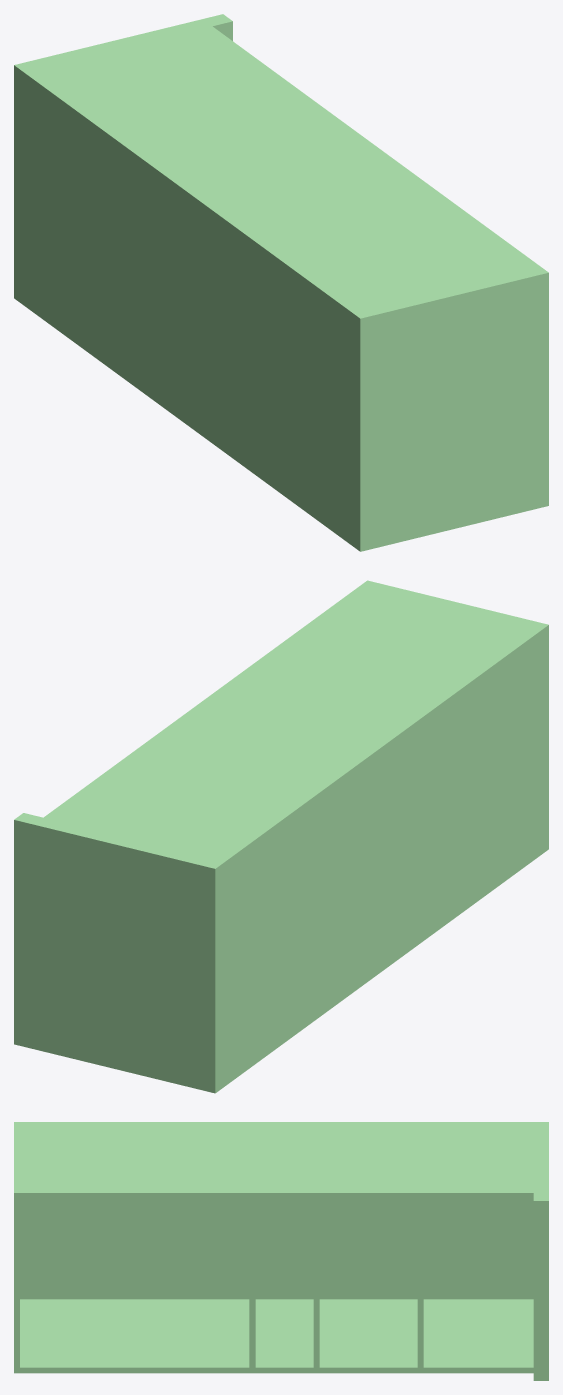
The picture shows the model from 3 angles, top to bottom: view 1: azimuth 30°, elevation 25°; view 2: azimuth 150°, elevation 25°; view 3: azimuth 270°, elevation 25°; orthographic projection. The views are drawn at different scales.
Visible parts, largest first — view 1: ROOT_link (×5); view 2: ROOT_link (×5); view 3: ROOT_link (×8).
Part boxes in pixels (x1,y1,x2,y2): ROOT_link (×5): (14, 14, 548, 551); ROOT_link (×5): (14, 580, 548, 1093); ROOT_link (×8): (14, 1122, 548, 1380).
Bounding box in the file's own units: 0.61 × 0.65 × 1.75.
